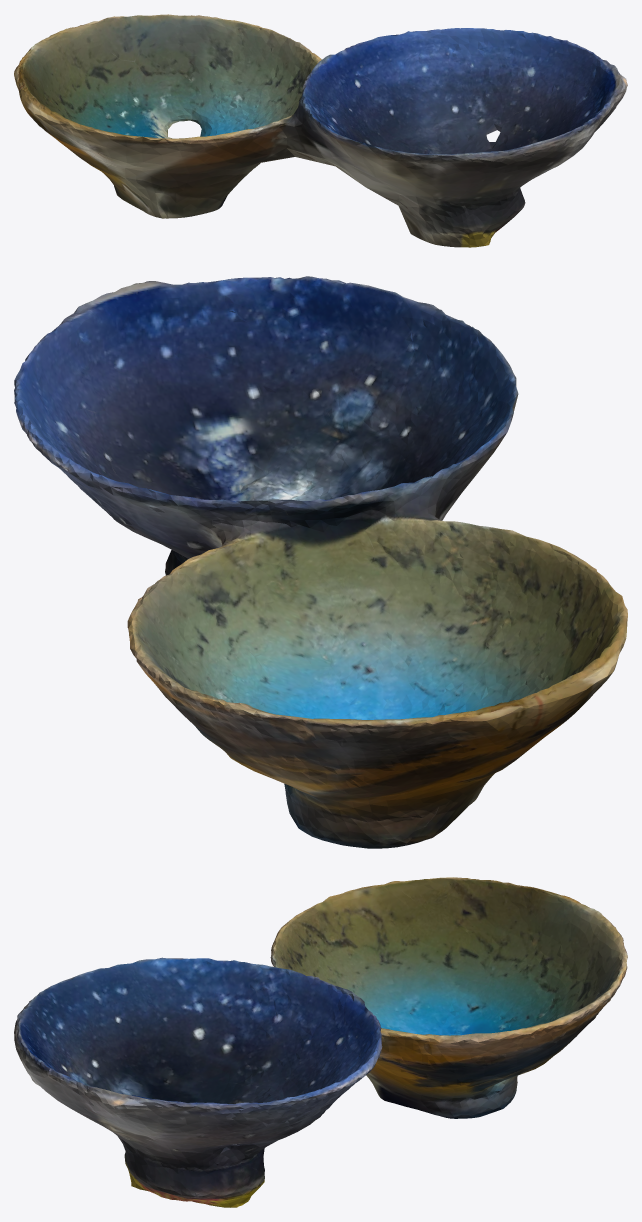
Rendered from bowls.glb.
The picture shows the model from 3 angles, top to bottom: view 1: azimuth 30°, elevation 25°; view 2: azimuth 150°, elevation 25°; view 3: azimuth 270°, elevation 25°; orthographic projection. The views are drawn at different scales.
Bounding box in the file's own units: 0.2265 × 0.0707 × 0.2284.
1 material, 1 textured.
